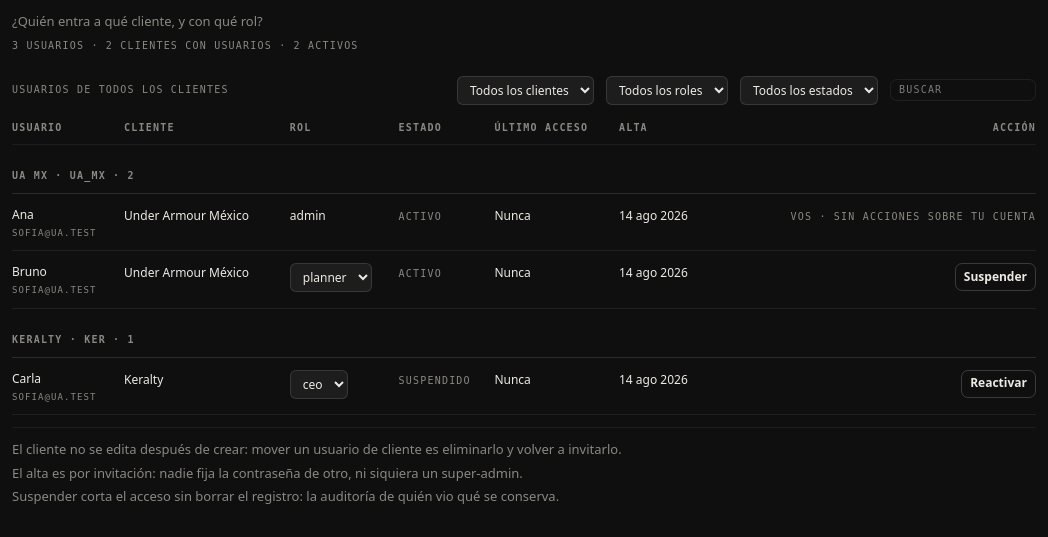
Test: las acciones DISPARAN, con el usuario y el cambio correctos › cancelar la suspensión no manda nada y vuelve a ofrecerla
The width and height of the screenshot is (1048, 537).
Click the button with aria-label "Suspender a Bruno". click: (995, 277)
box: [955,263,1036,291]
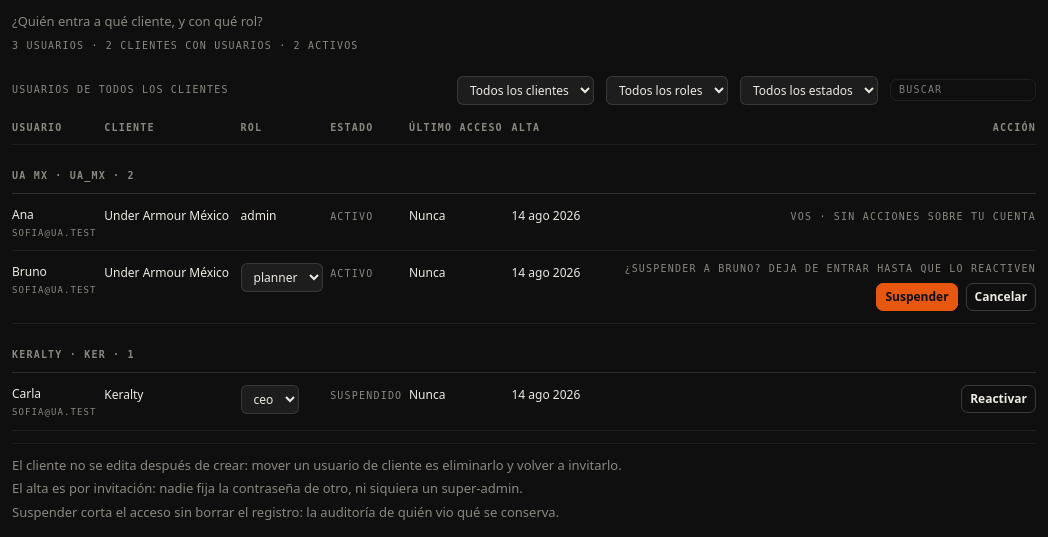
Click the button "Cancelar". click: (1001, 297)
box: [966,283,1036,311]
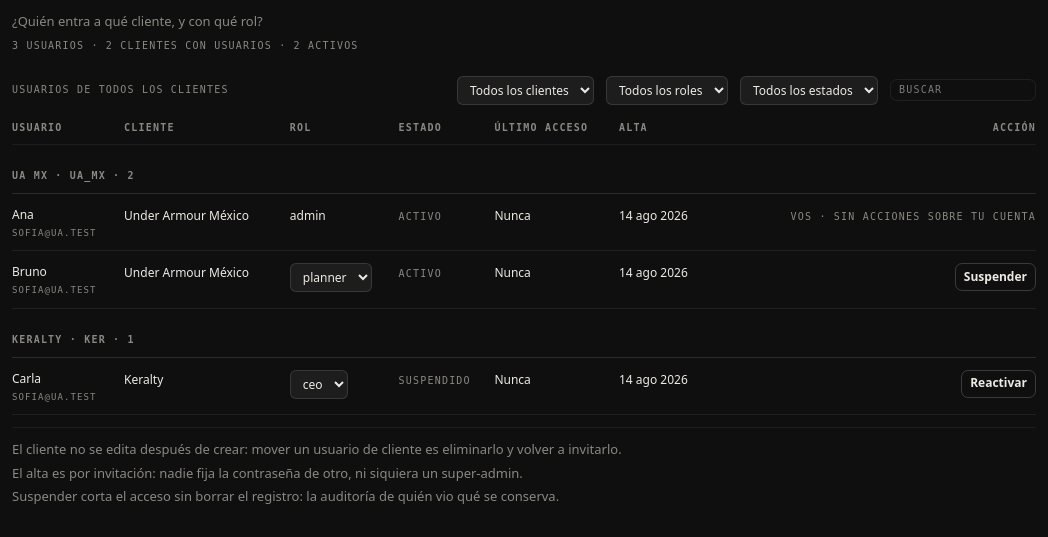
Check: the button with aria-label "Suspender a Bruno" is shown, box [955,263,1036,291]
